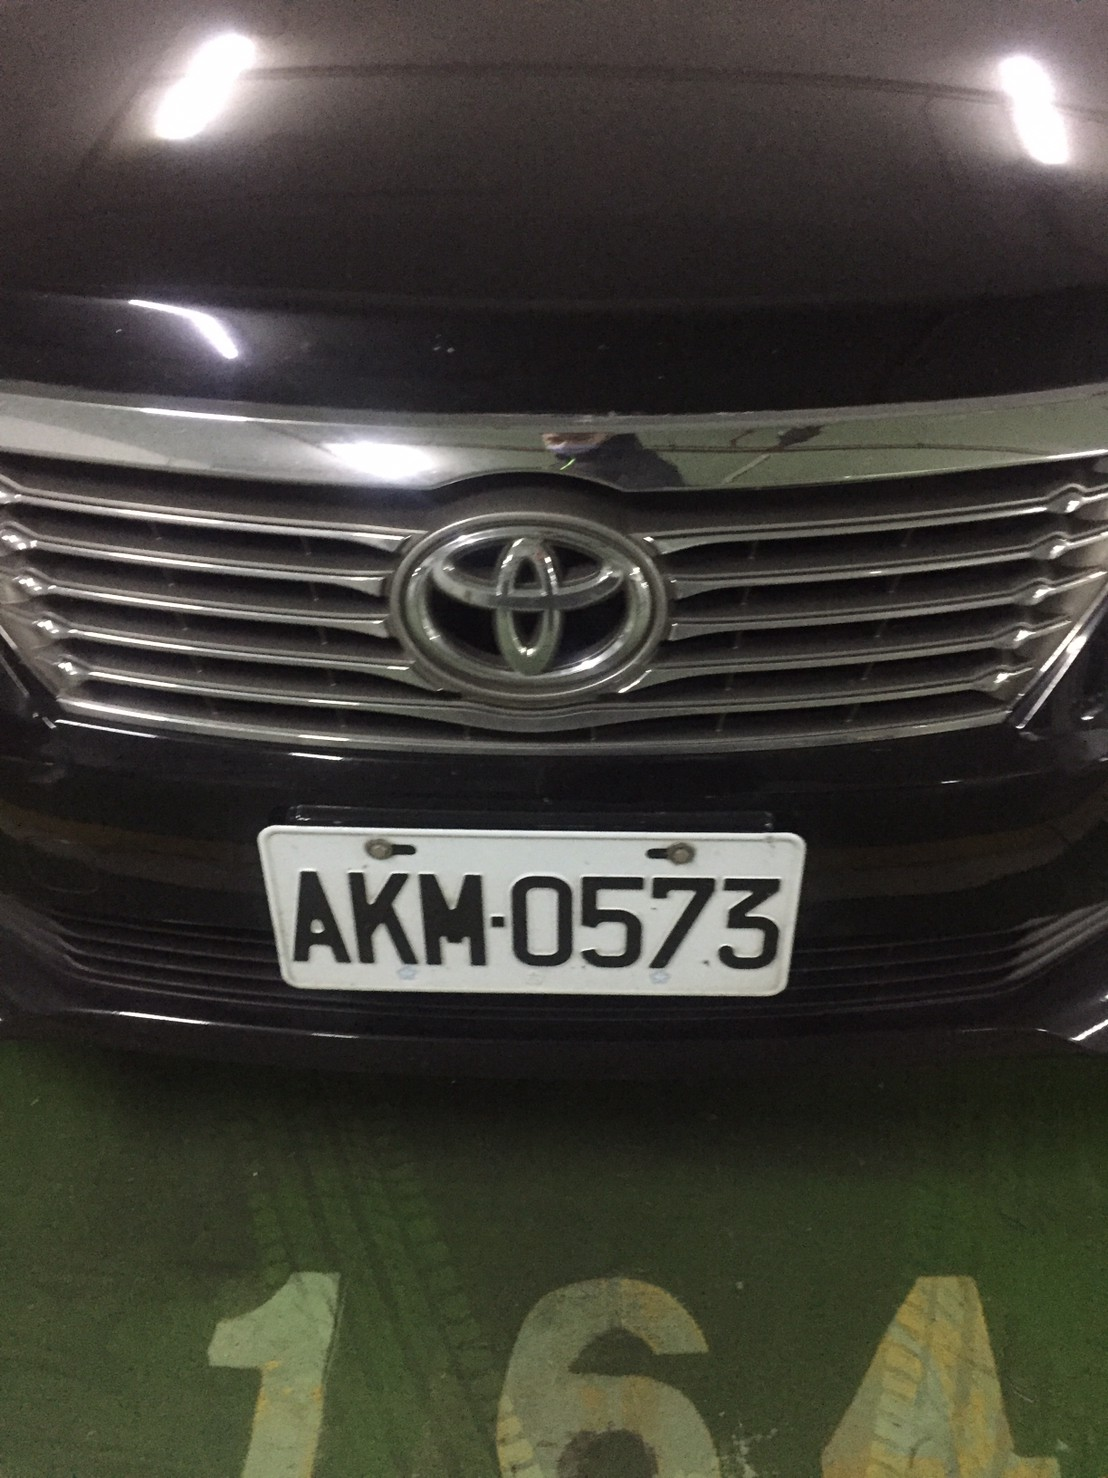LP: (256, 813, 802, 1004)
